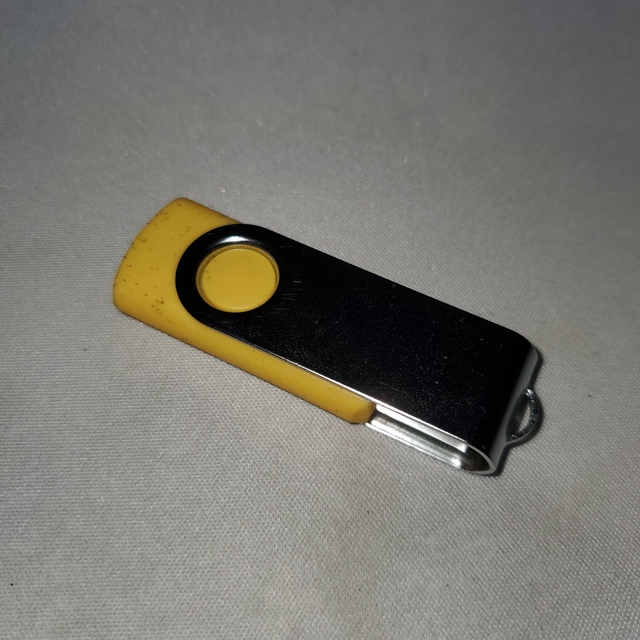usb_drive: (107, 192, 546, 484)
